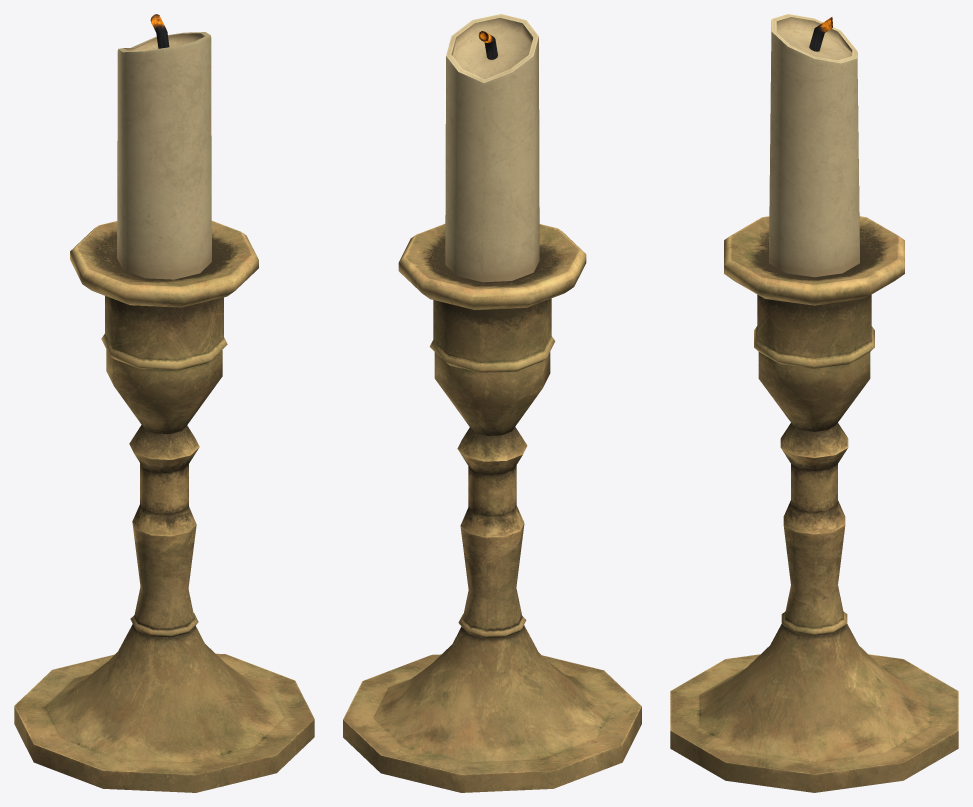
The model's file is obj_candle_d559f4.glb.
3 renders of one model, left to right at view 1: azimuth 30°, elevation 25°; view 2: azimuth 150°, elevation 25°; view 3: azimuth 270°, elevation 25°, orthographic.
Parts seen in each view (by area): view 1: obj_candle_d559f4; view 2: obj_candle_d559f4; view 3: obj_candle_d559f4.
Boxes of the visible parts, x1,y1,x2,y2 form: obj_candle_d559f4: [14, 14, 314, 792]; obj_candle_d559f4: [343, 14, 641, 792]; obj_candle_d559f4: [670, 14, 958, 792].
Bounding box in the file's own units: 0.0964 × 0.25 × 0.0917.
1 material, 1 textured.
